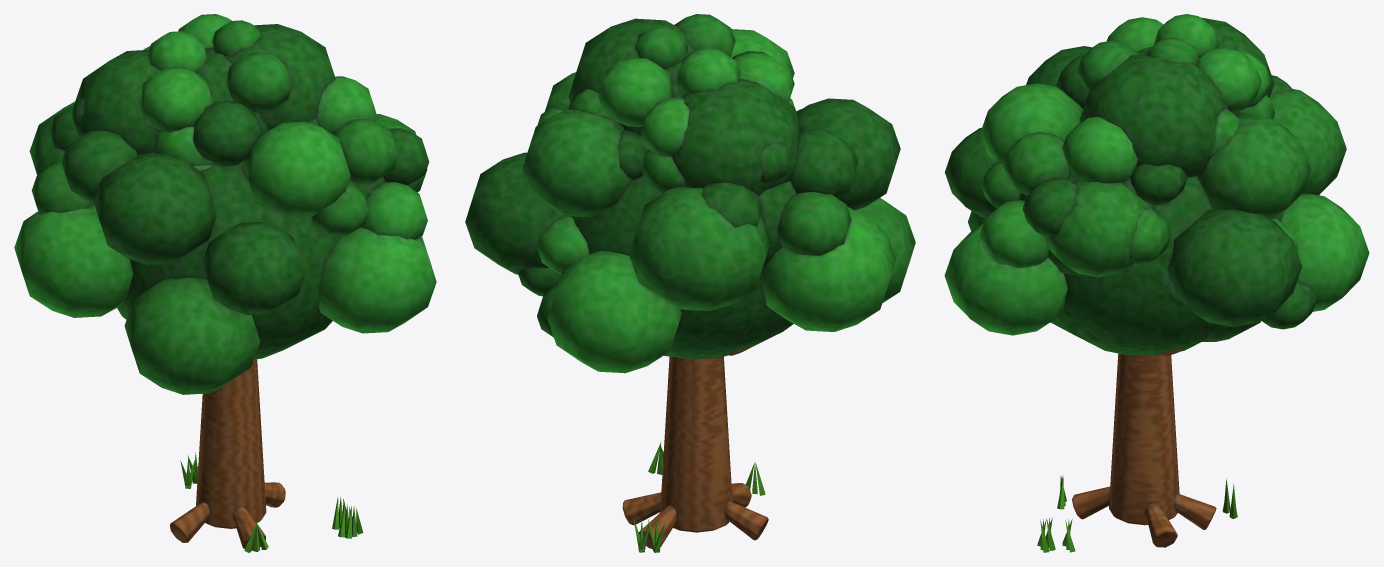
File: ugli_fruit_tree.glb
3 views of the same model, side by side, from view 1: azimuth 30°, elevation 25°; view 2: azimuth 150°, elevation 25°; view 3: azimuth 270°, elevation 25° (orthographic). The views are drawn at different scales.
Visible parts, largest first — view 1: crown, ugli_fruit_tree; view 2: crown, ugli_fruit_tree; view 3: crown, ugli_fruit_tree.
Boxes of the visible parts, x1,y1,x2,y2 form: crown: (14,14,436,394); ugli_fruit_tree: (170,359,363,552); crown: (465,14,915,373); ugli_fruit_tree: (622,347,768,552); crown: (944,14,1369,355); ugli_fruit_tree: (1037,348,1237,552).
Size of the model in its own units: 1.13 by 1.43 by 1.12.
Materials: 1 (1 with a texture image).
